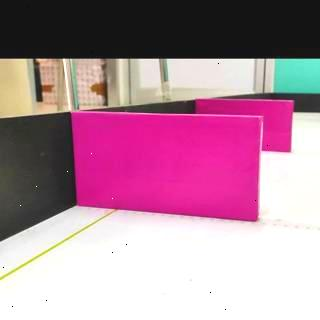xparking: (76, 114, 260, 222), (265, 99, 292, 152)
